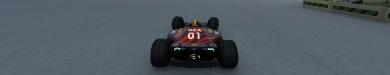Car: (149, 15, 238, 68)
obstacles-Borders: (301, 0, 389, 25)
